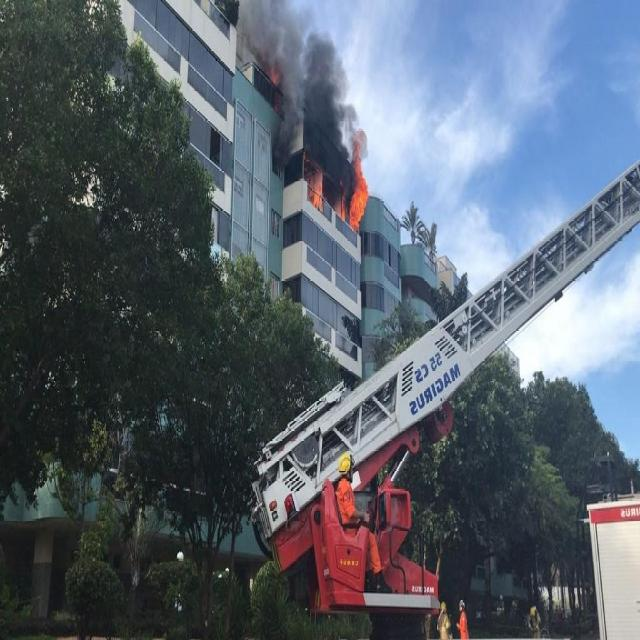fire: (338, 121, 379, 227)
